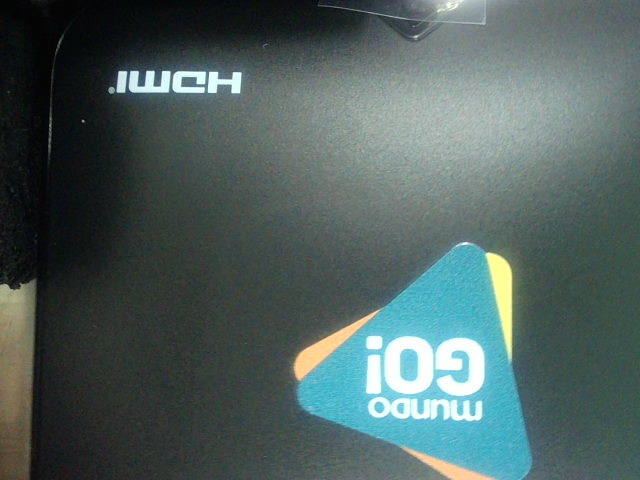AP_IPGMundoGO: (284, 232, 560, 476)
